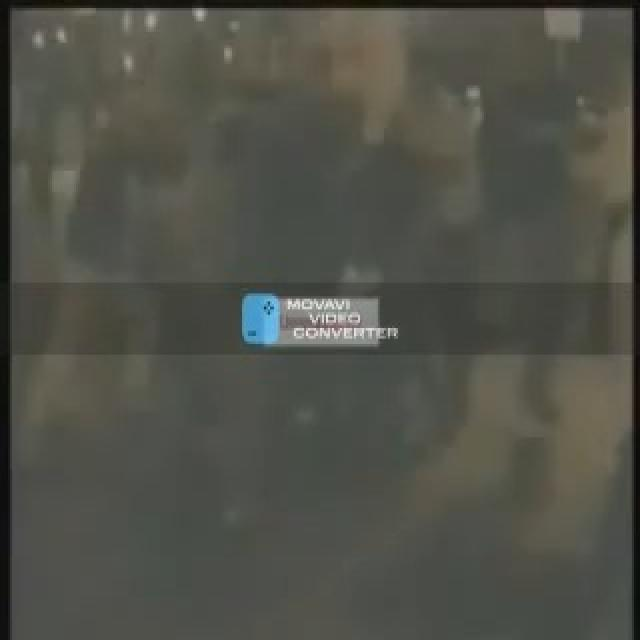non-voilence: (4, 0, 638, 637), (240, 290, 398, 346)
